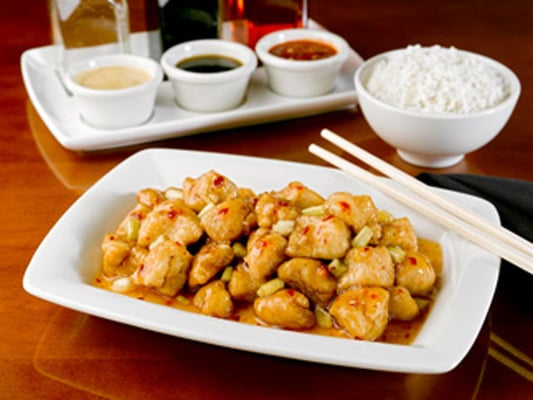pizza: (55, 53, 162, 130)
sandwich: (309, 128, 533, 274)
sushi: (355, 44, 522, 170), (160, 39, 257, 113), (255, 28, 349, 98)
